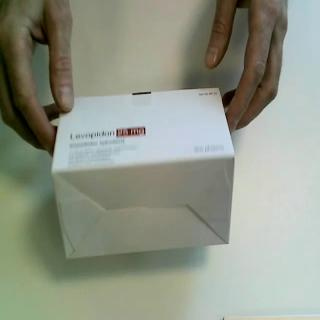levopidon25mg: (51, 85, 238, 261)
